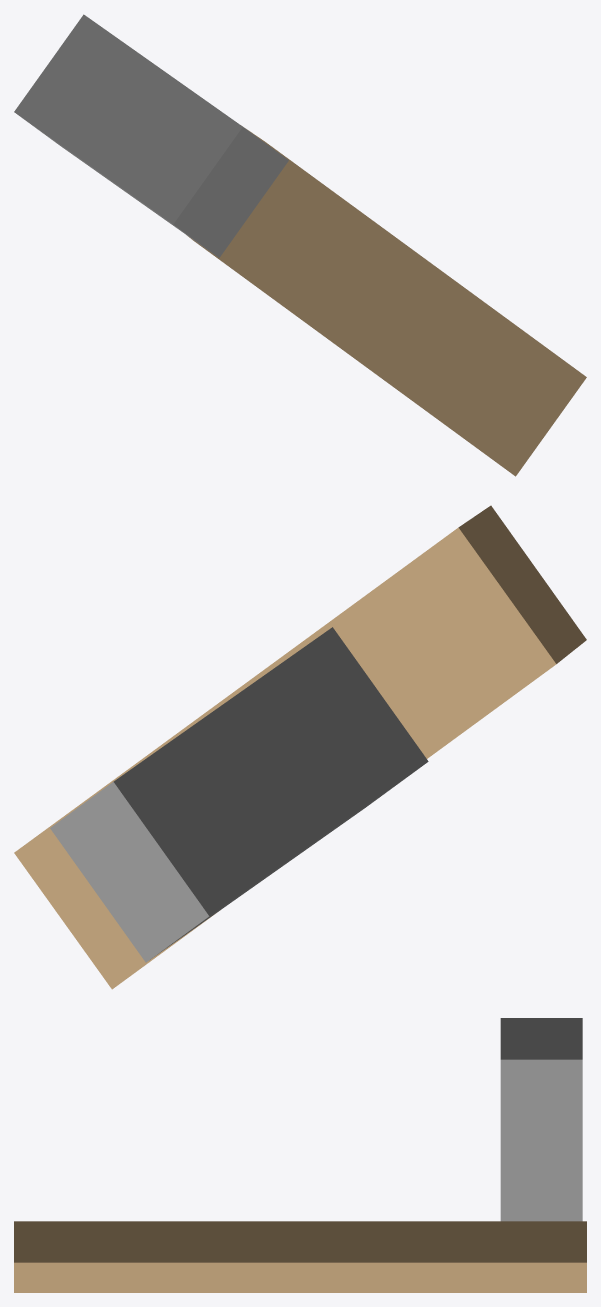
The picture shows the model from 3 angles, top to bottom: view 1: azimuth 30°, elevation 25°; view 2: azimuth 150°, elevation 25°; view 3: azimuth 270°, elevation 25°; orthographic projection. The views are drawn at different scales.
Parts seen in each view (by area): view 1: 0_2_3_2_2_0_2_2_0_0_1; view 2: 0_2_3_2_2_0_2_2_0_0_1; view 3: 0_2_3_2_2_0_2_2_0_0_1.
Part boxes in pixels (<box>): 0_2_3_2_2_0_2_2_0_0_1: <box>14,14,586,476</box>; 0_2_3_2_2_0_2_2_0_0_1: <box>14,505,586,989</box>; 0_2_3_2_2_0_2_2_0_0_1: <box>14,1018,586,1292</box>.
Bounding box in the file's own units: 9.49 × 9.15 × 21.
